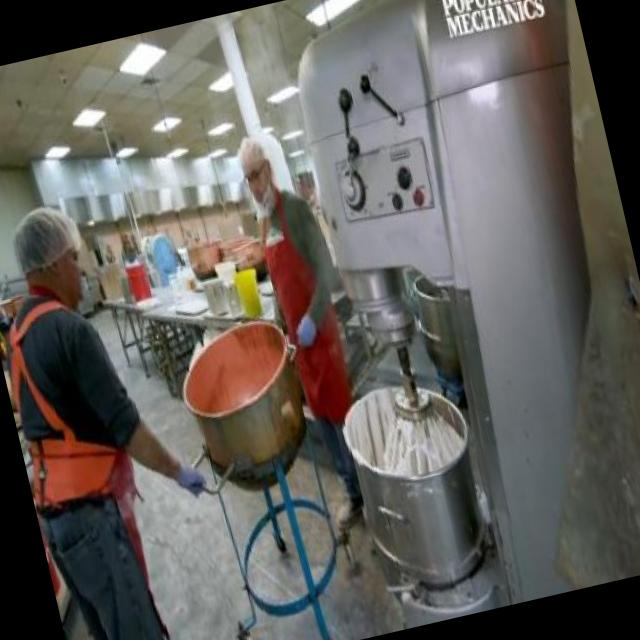hairnet: (2, 200, 80, 272), (234, 134, 267, 169)
